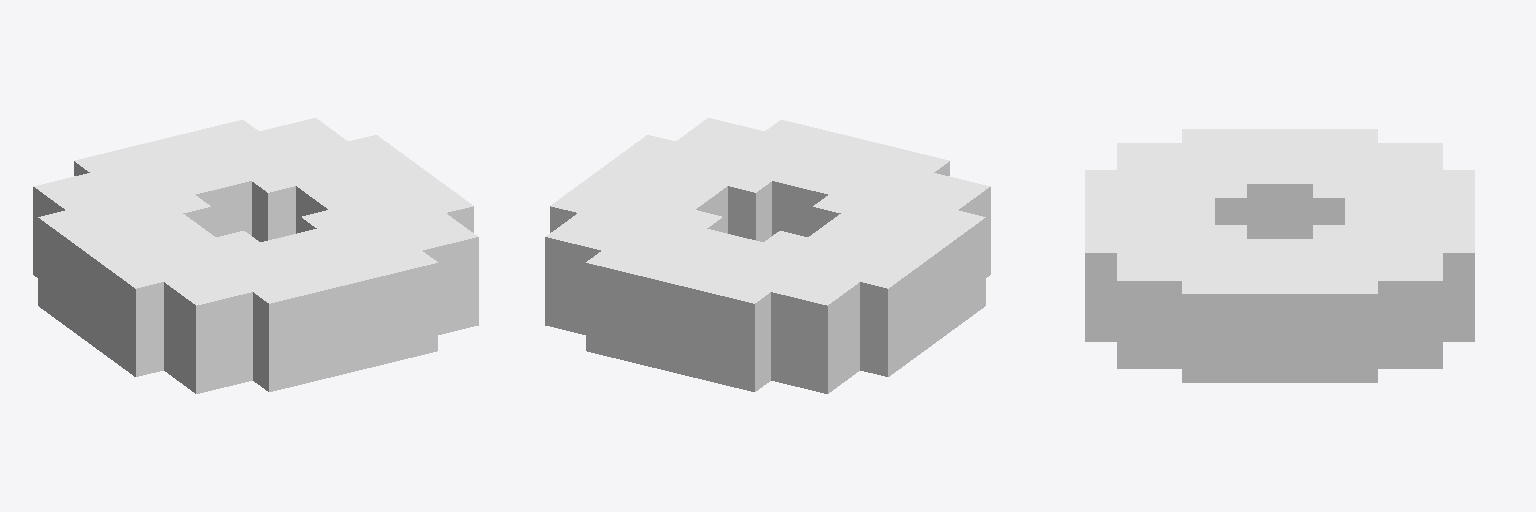
File: Capsule_Scan_Floor.obj
3 renders of one model, left to right at view 1: azimuth 30°, elevation 25°; view 2: azimuth 150°, elevation 25°; view 3: azimuth 270°, elevation 25°, orthographic.
Parts seen in each view (by area): view 1: Capsule_Scan_Floor; view 2: Capsule_Scan_Floor; view 3: Capsule_Scan_Floor.
Part boxes in pixels (bbox=[...]): Capsule_Scan_Floor: bbox=[33, 118, 478, 393]; Capsule_Scan_Floor: bbox=[545, 118, 990, 393]; Capsule_Scan_Floor: bbox=[1085, 129, 1474, 382].
Bounding box in the file's own units: 12 × 3 × 12.